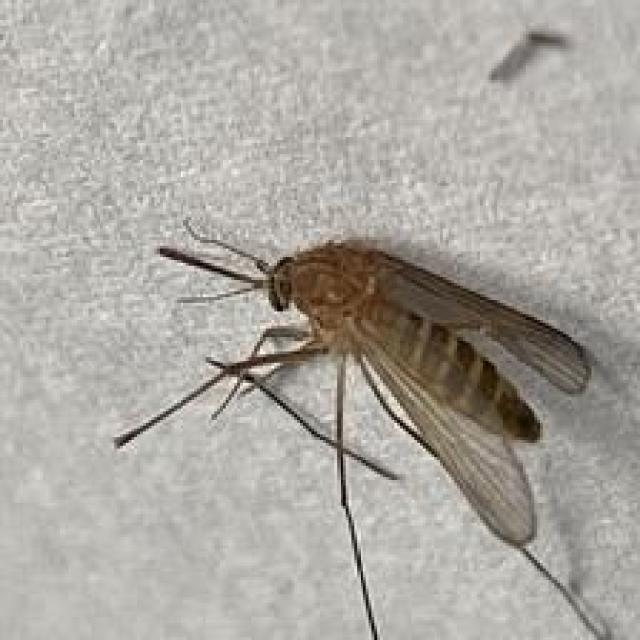Culex: (111, 216, 614, 638)
